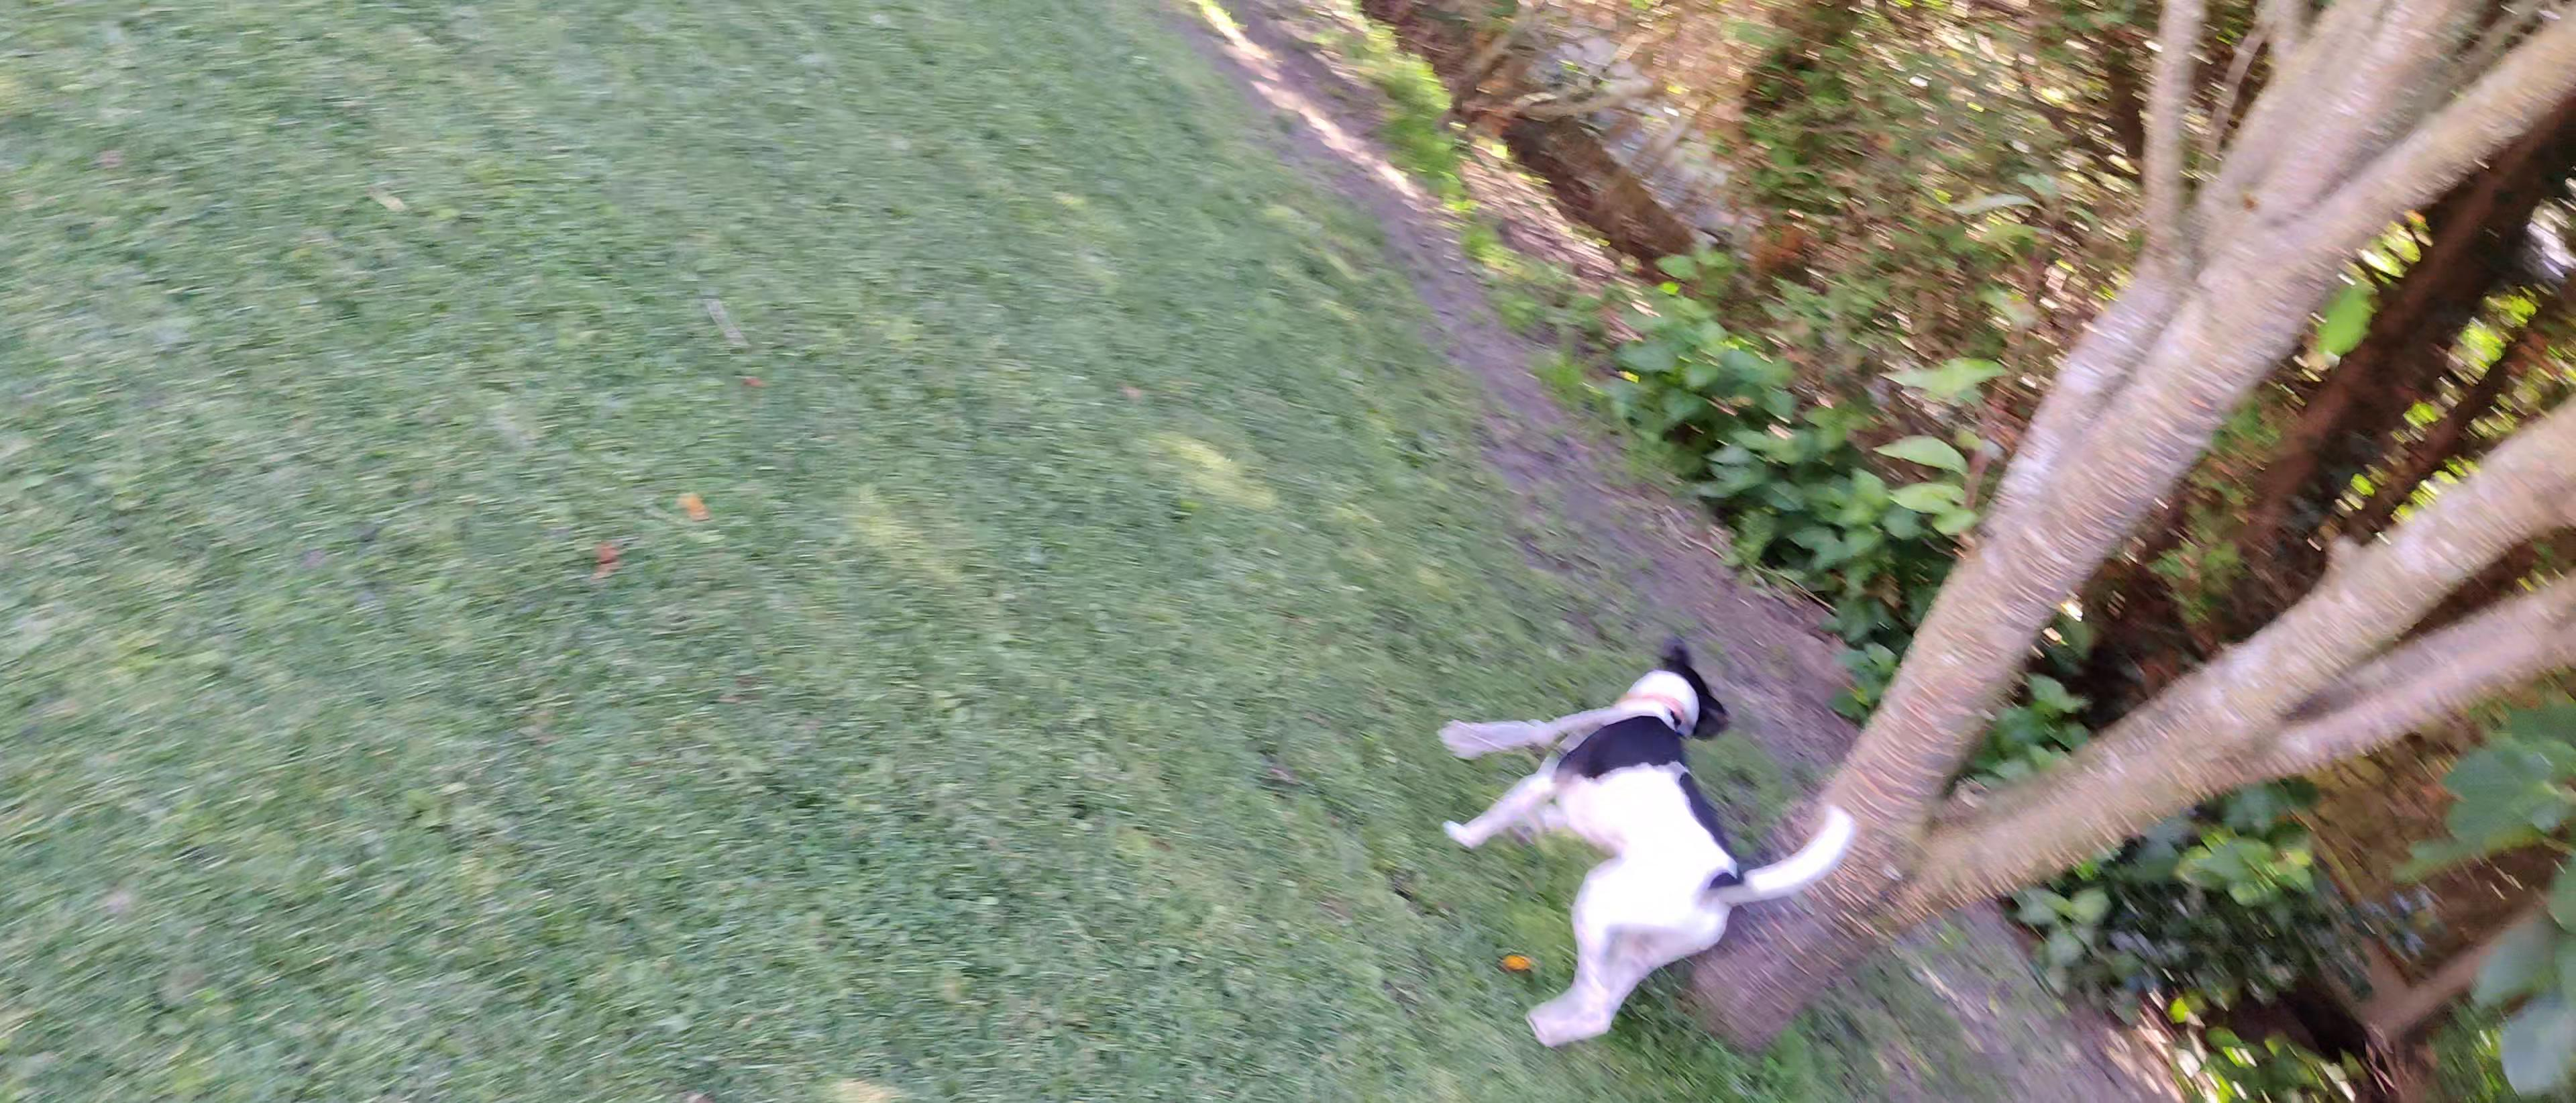Dog: (1436, 628, 1871, 1055)
